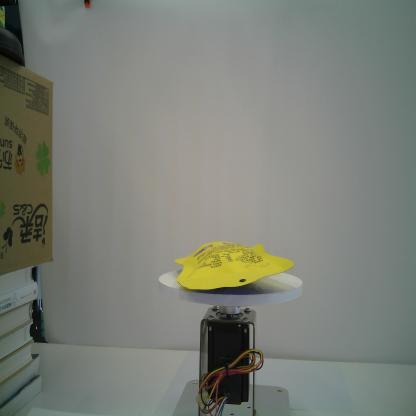Dried Fruit: (174, 242, 294, 290)
